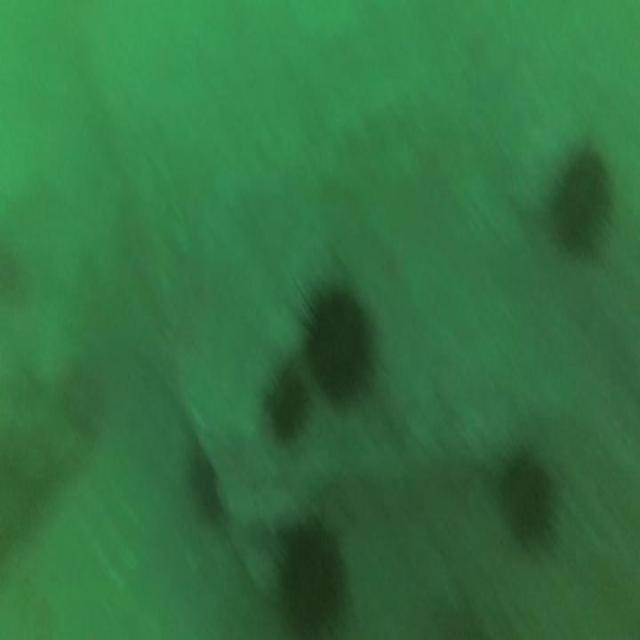echinus: (306, 275, 378, 423), (264, 518, 351, 640), (546, 146, 612, 274), (492, 440, 556, 570), (258, 343, 314, 449)
